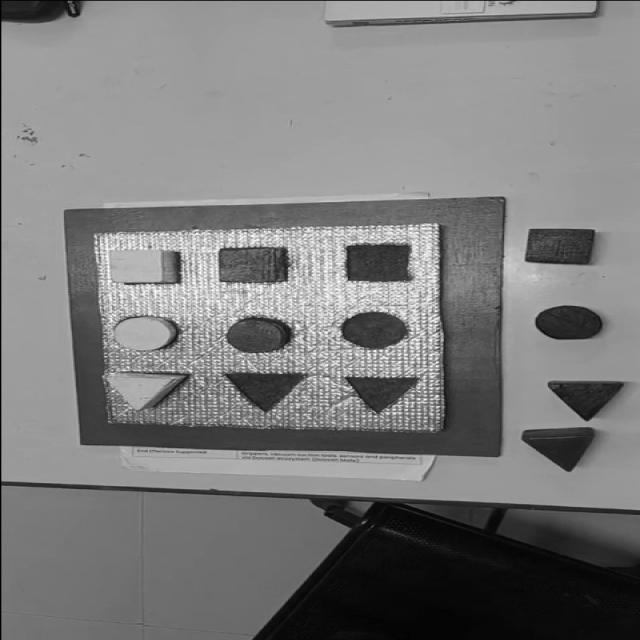bcircle: (533, 305, 602, 341)
btriangle: (546, 381, 624, 422), (524, 228, 596, 266)
mtcircle: (339, 311, 411, 349)
mtcube: (344, 244, 414, 282)
mttriangle: (223, 371, 308, 413), (343, 374, 423, 415)
rcircle: (226, 318, 289, 353)
rcube: (218, 247, 287, 283)
rtriangle: (520, 426, 596, 472)
wb: (91, 223, 450, 431)
ycircle: (112, 316, 178, 351)
ycube: (108, 250, 180, 284)
ytriangle: (104, 371, 189, 411)
